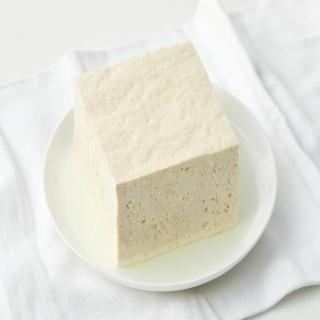Tahu: (55, 55, 271, 269)
